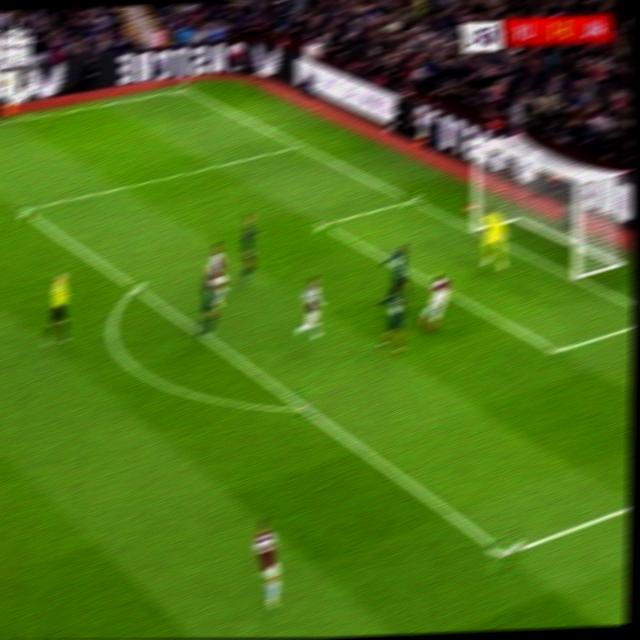bigarea_bottom_inner: (486, 529, 524, 577)
bigarea_top_inner: (14, 199, 34, 220)
bigarea_top_outter: (291, 136, 310, 153)
bottom_arc_area_intersection: (290, 388, 318, 424)
corner: (173, 82, 192, 93)
smallarea_bottom_inner: (545, 335, 570, 365)
smallarea_top_inner: (313, 214, 333, 235)
smallarea_top_outter: (400, 187, 423, 211)
top_arc_area_intersection: (126, 275, 147, 300)
